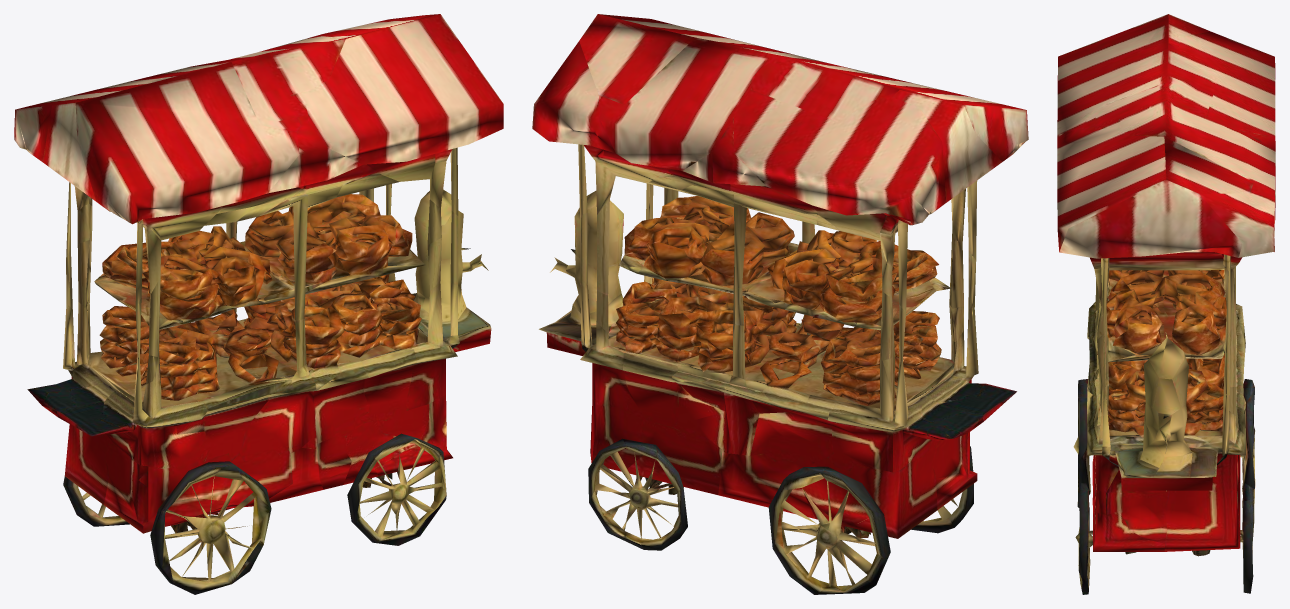
Rendered from city_istanbul_simit_cart.glb.
The picture shows the model from 3 angles, left to right: view 1: azimuth 30°, elevation 25°; view 2: azimuth 150°, elevation 25°; view 3: azimuth 270°, elevation 25°; orthographic projection. The views are drawn at different scales.
Visible parts, largest first — view 1: mesh_node; view 2: mesh_node; view 3: mesh_node.
Part boxes in pixels (bbox=[...]): mesh_node: bbox=[14, 14, 503, 594]; mesh_node: bbox=[532, 14, 1028, 594]; mesh_node: bbox=[1057, 14, 1275, 594].
Size of the model in its own units: 2.05 by 2.19 by 0.9597.
Materials: 1 (1 with a texture image).
